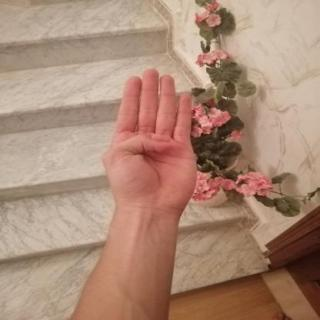KAAF: (94, 62, 209, 222)
